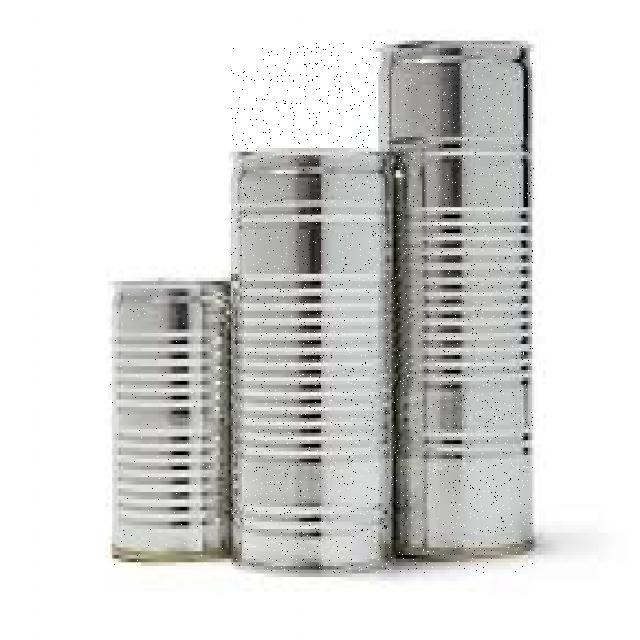metal: (231, 41, 534, 573), (110, 278, 233, 566)
